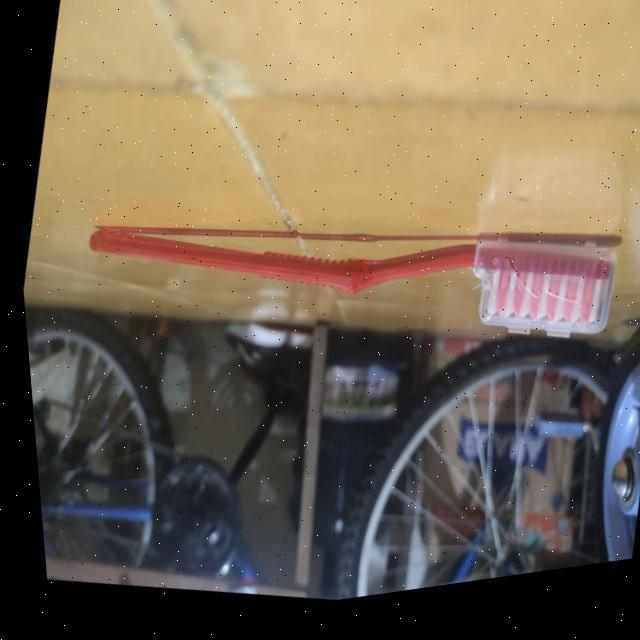toothbrush: (51, 131, 640, 441)
